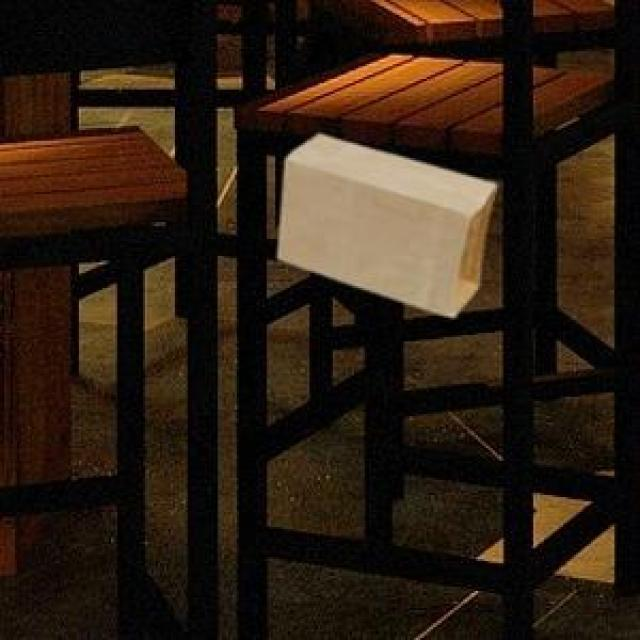paper: (273, 130, 493, 314)
